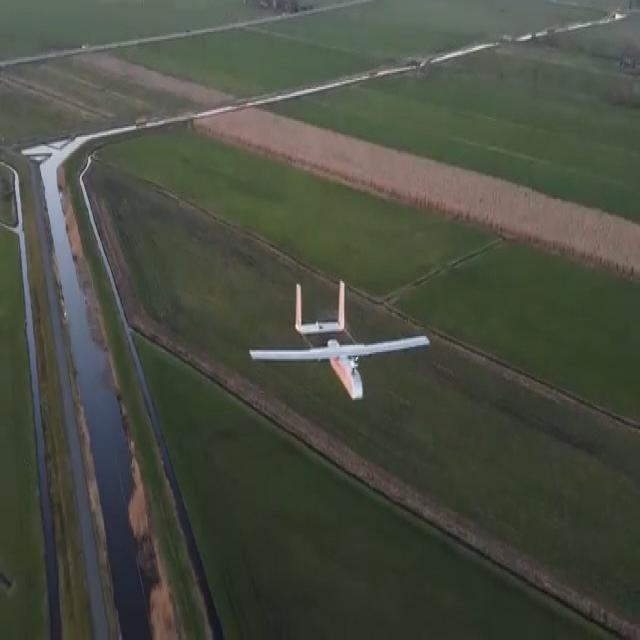iha: (248, 280, 434, 412)
